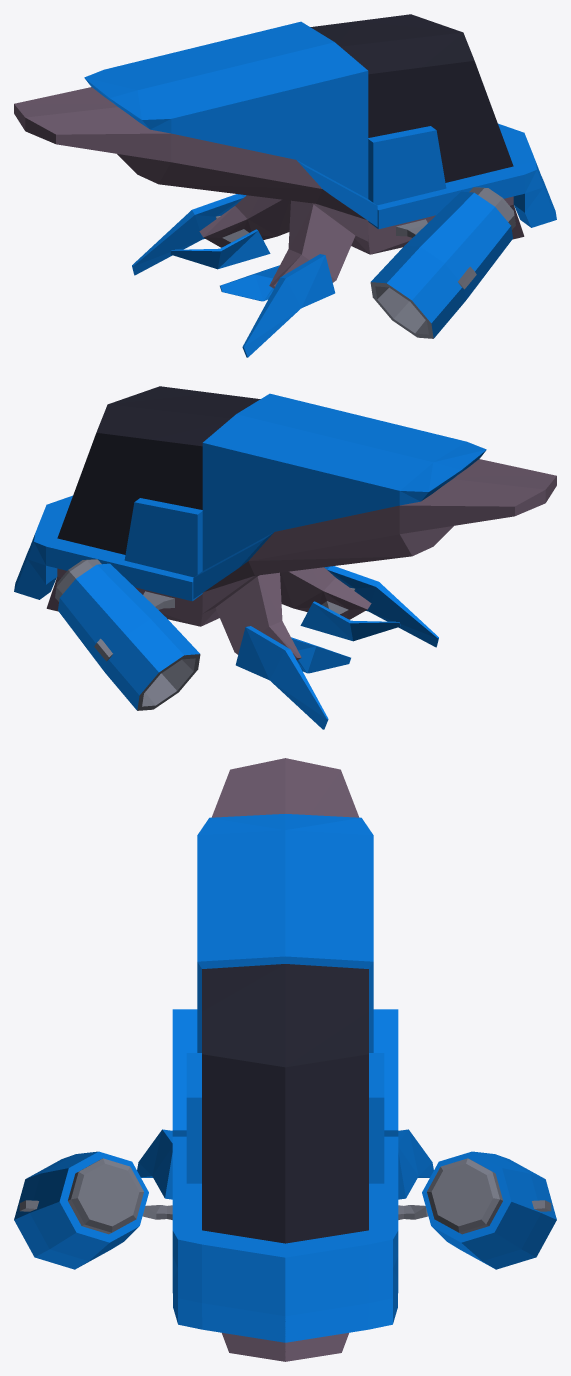
Rendered from SpaceShip3.glb.
The picture shows the model from 3 angles, top to bottom: view 1: azimuth 30°, elevation 25°; view 2: azimuth 150°, elevation 25°; view 3: azimuth 270°, elevation 25°; orthographic projection. The views are drawn at different scales.
Parts seen in each view (by area): view 1: Spaceship3-main, spaceship3-turbines; view 2: Spaceship3-main, spaceship3-turbines; view 3: Spaceship3-main, spaceship3-turbines.
Boxes of the visible parts, <box> form: Spaceship3-main: <box>14,14,556,357</box>; spaceship3-turbines: <box>242,187,515,338</box>; Spaceship3-main: <box>14,386,556,729</box>; spaceship3-turbines: <box>55,559,328,710</box>; Spaceship3-main: <box>137,758,433,1361</box>; spaceship3-turbines: <box>14,1151,556,1269</box>.
Size of the model in its own units: 9.44 by 4.16 by 6.51.
